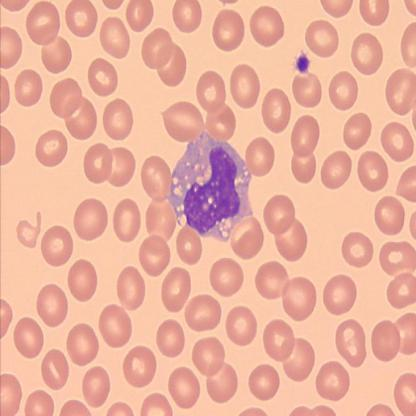Monocyte: (166, 130, 254, 244)
